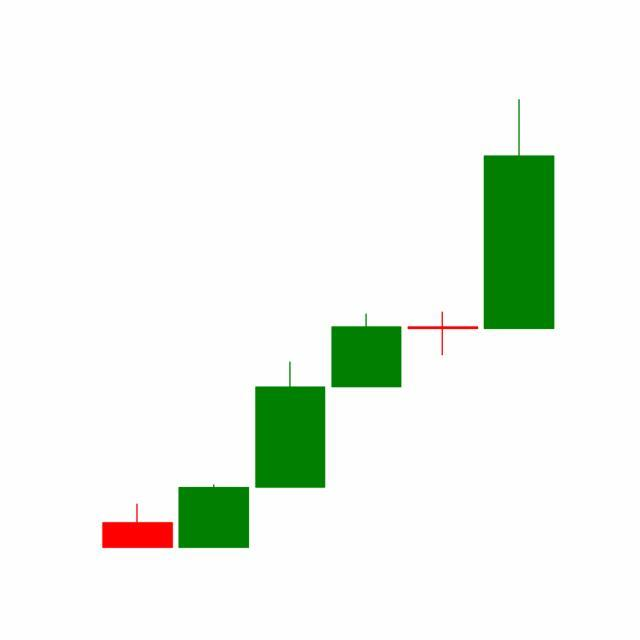Spinning Top: (404, 312, 482, 358)
